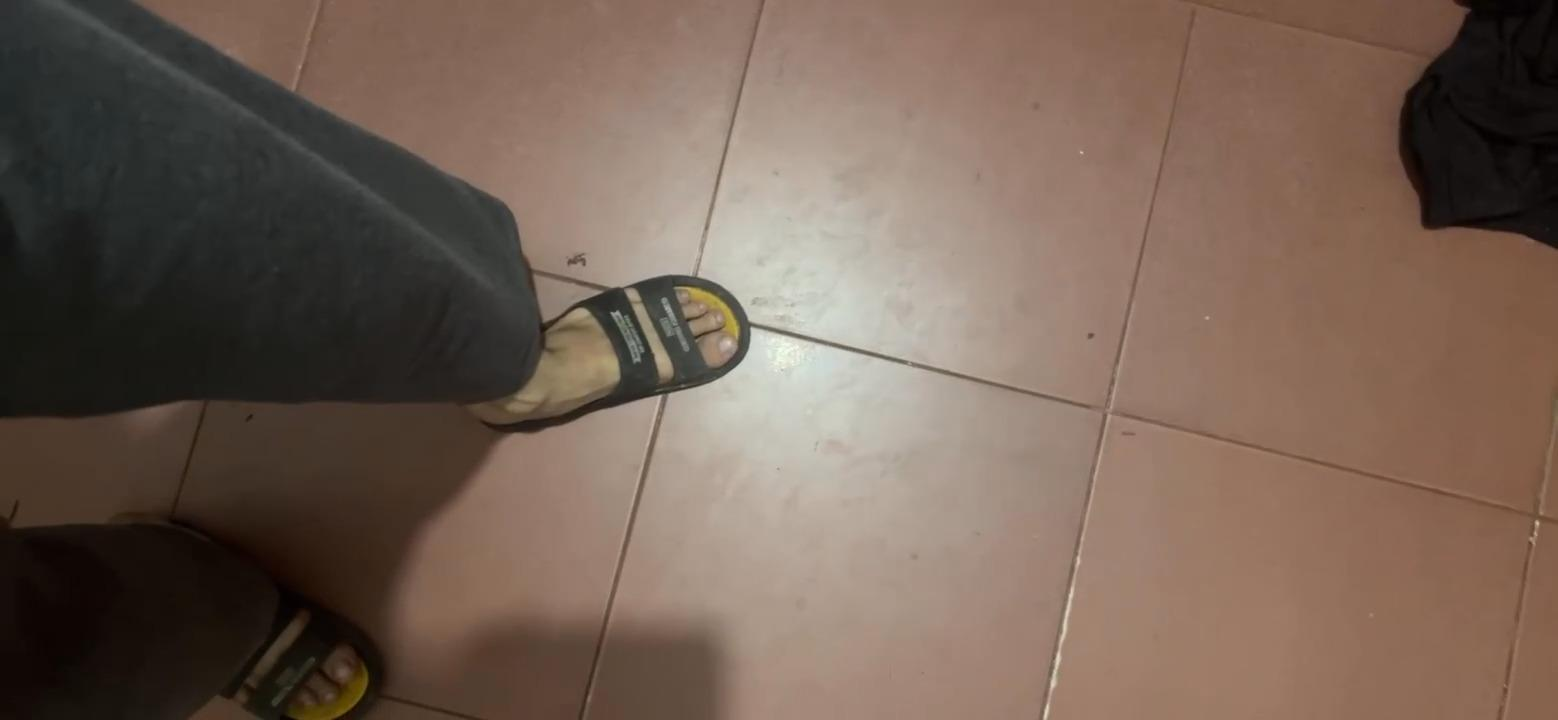no-boot: (453, 263, 754, 430), (219, 545, 383, 720)
